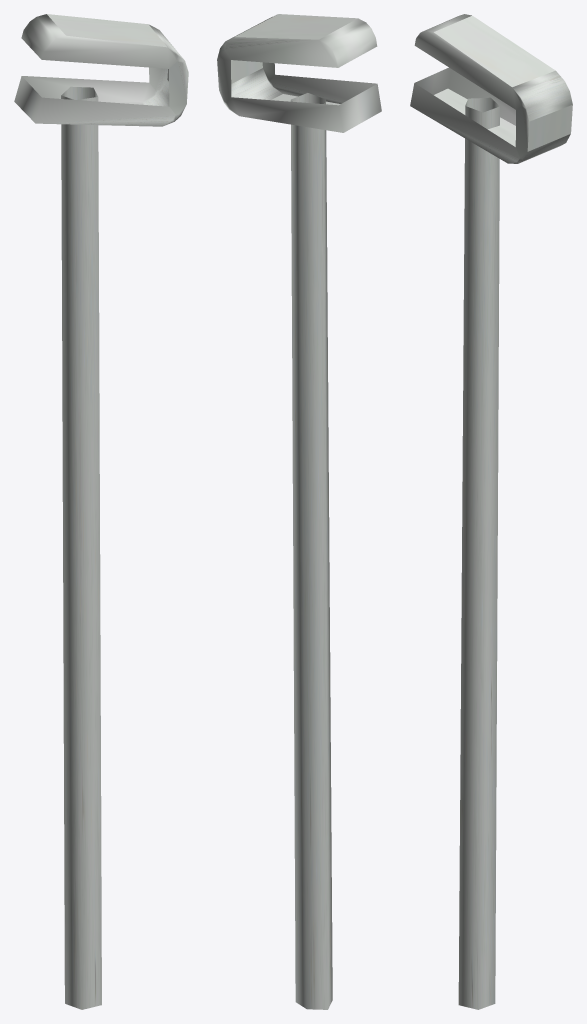
Rendered from STA20_Railpost.FBX.
The picture shows the model from 3 angles, left to right: view 1: azimuth 30°, elevation 25°; view 2: azimuth 150°, elevation 25°; view 3: azimuth 330°, elevation 25°; orthographic projection.
Parts seen in each view (by area): view 1: STA20_Railpost; view 2: STA20_Railpost; view 3: STA20_Railpost.
Boxes of the visible parts, x1,y1,x2,y2 form: STA20_Railpost: (14,14,188,1009); STA20_Railpost: (217,14,381,1009); STA20_Railpost: (410,14,572,1009).
Size of the model in its own units: 0.1668 by 1.05 by 0.0891.
